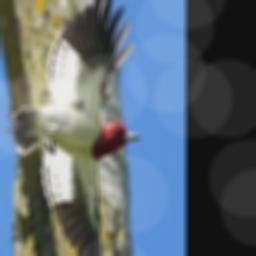Woodpecker: (6, 0, 140, 256)
